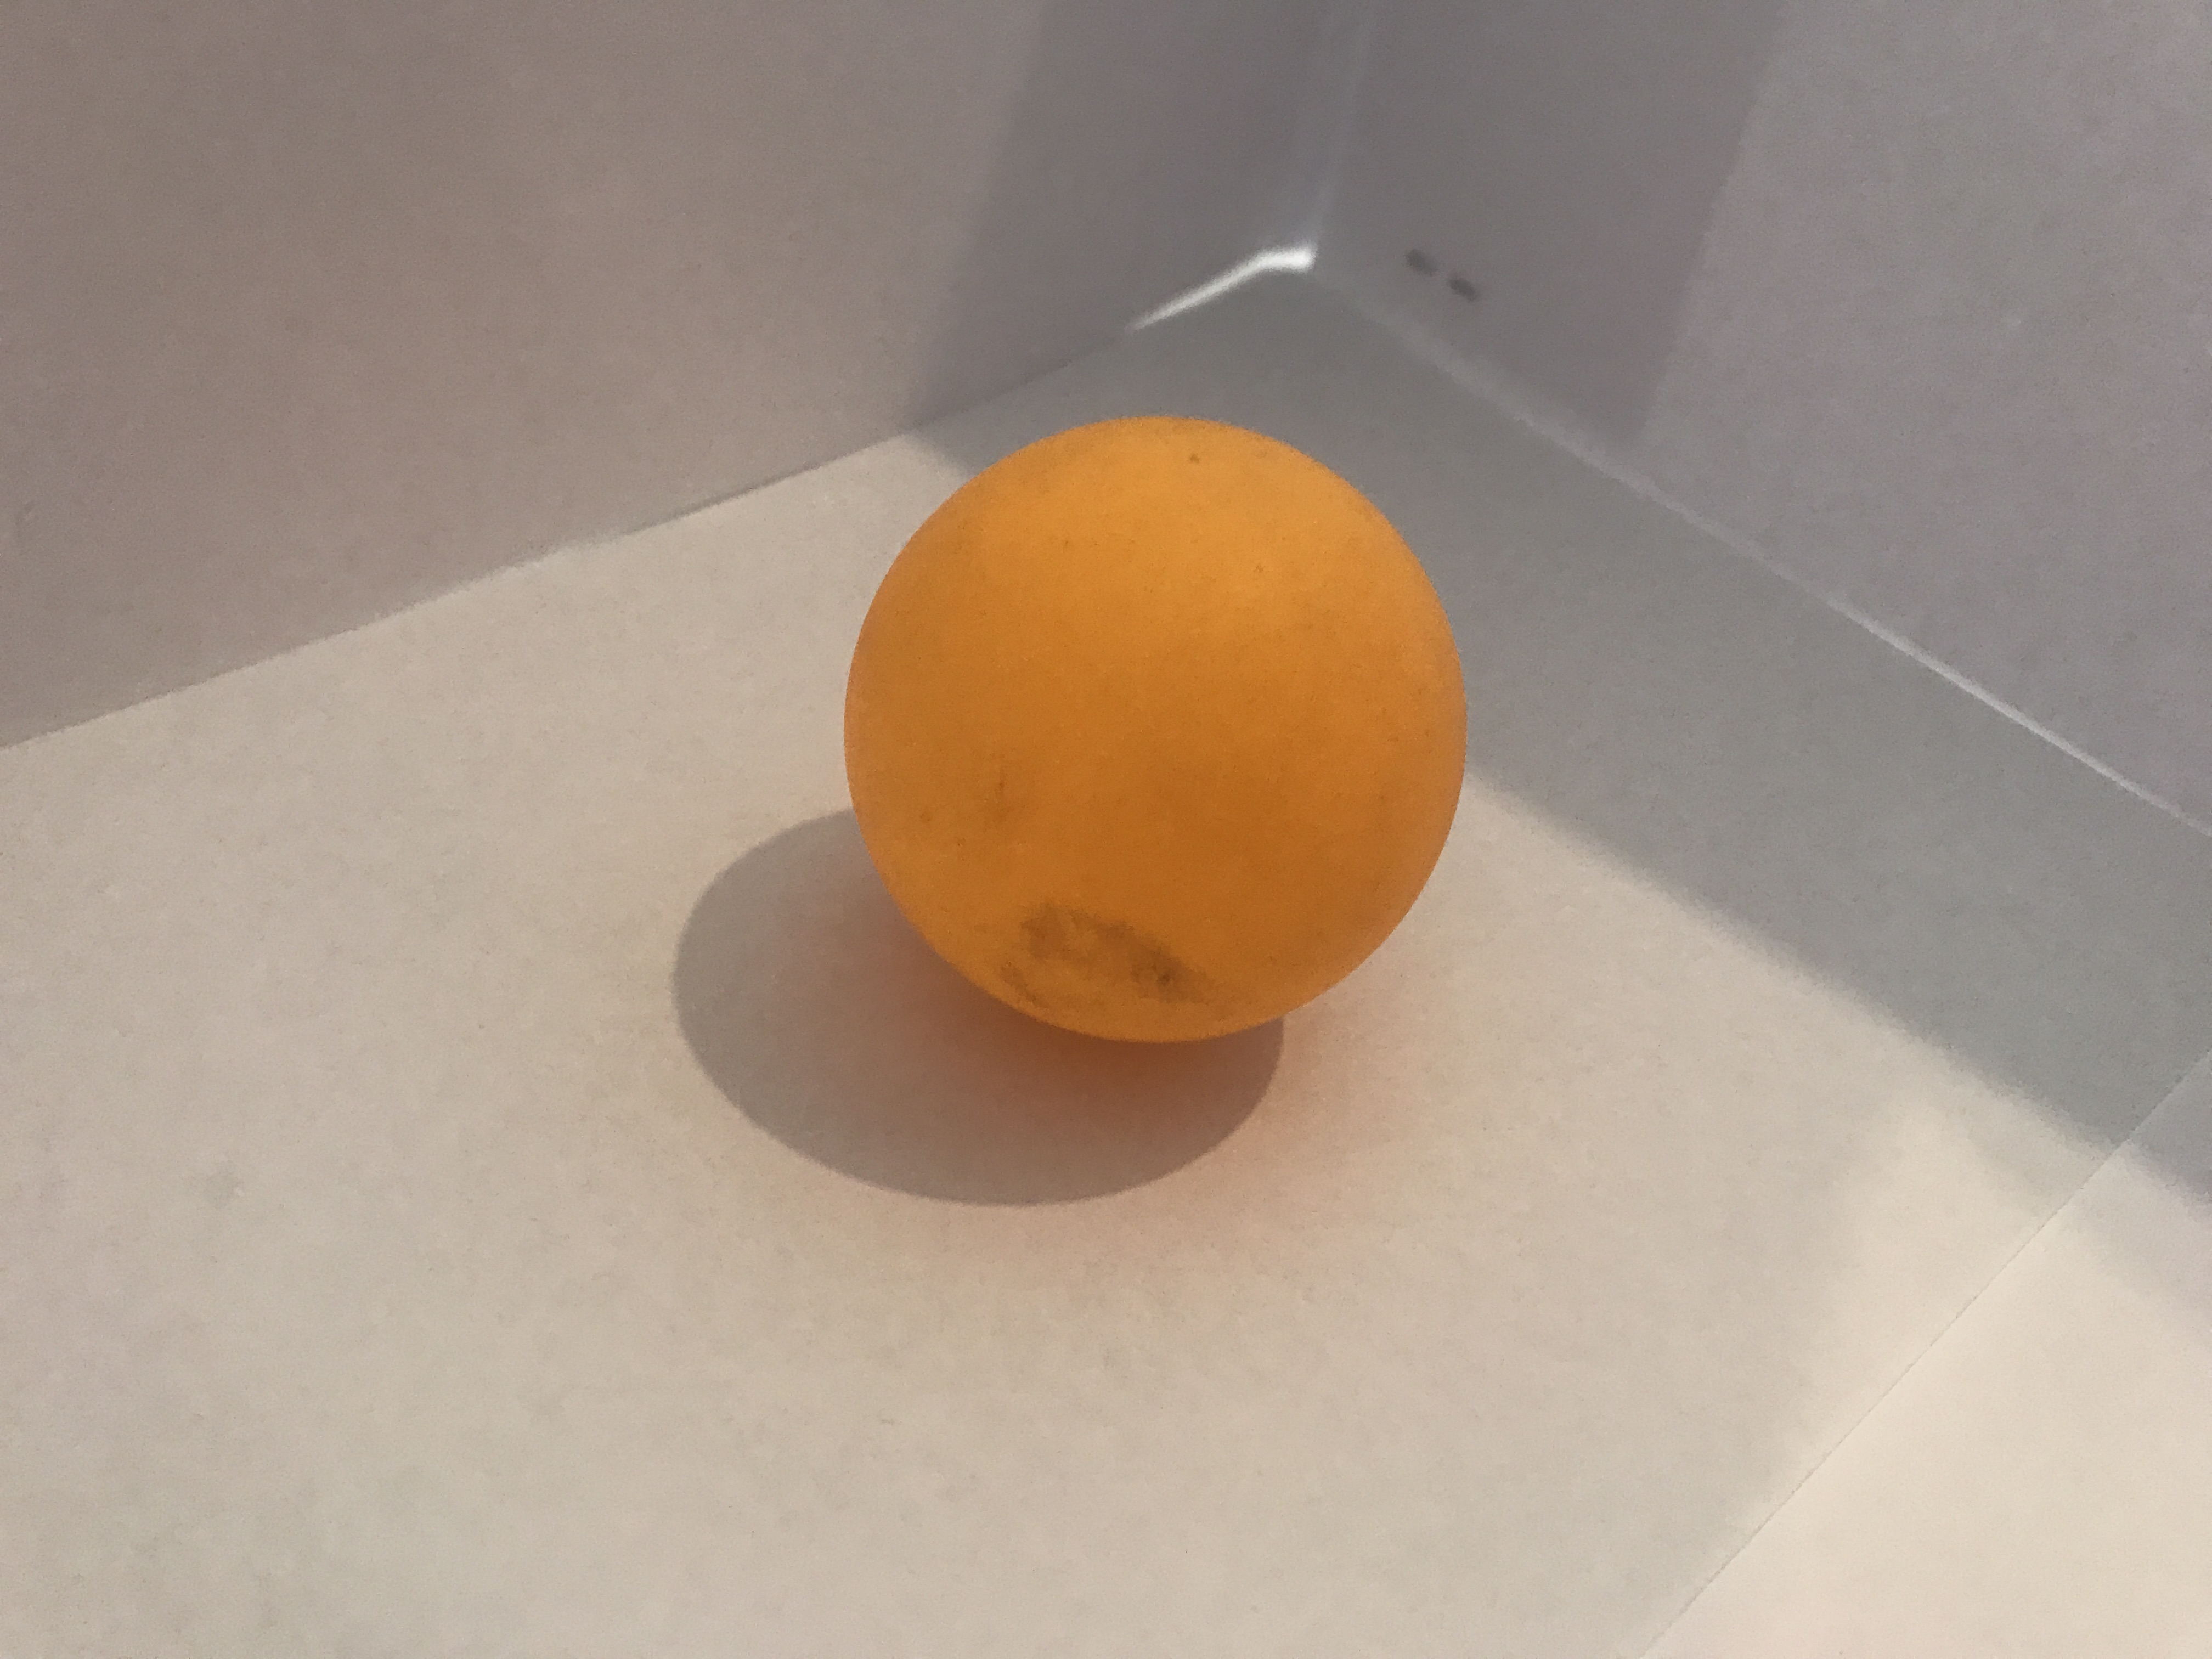pp: (836, 408, 1475, 1054)
